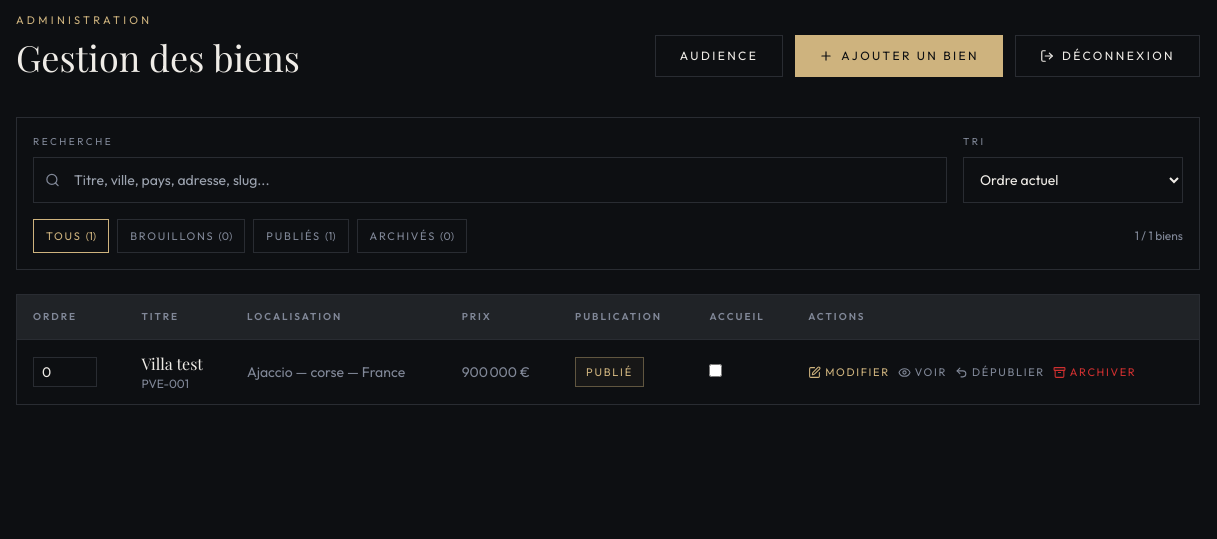
Scenario: AdminBiensList › shows an empty state after filtering
This screenshot has width=1217, height=539.
Type "introuvable" into the field with placeholder "Titre, ville, pays, adresse, slug..." at (490, 180), box [33, 156, 947, 202]
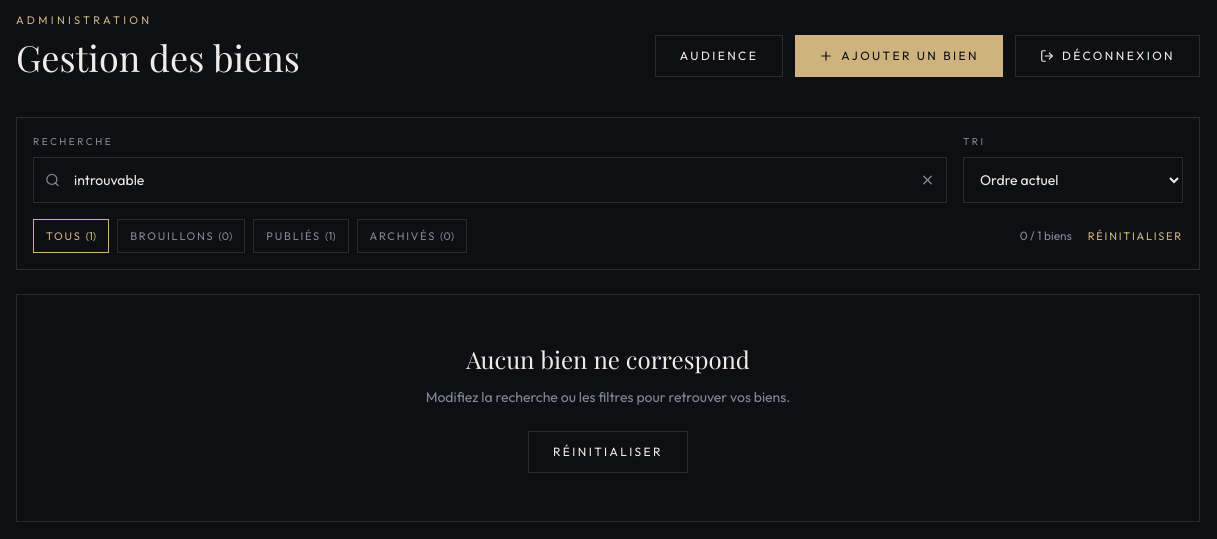
Check: the text "Aucun bien ne correspond" is shown, box [466, 343, 750, 375]
